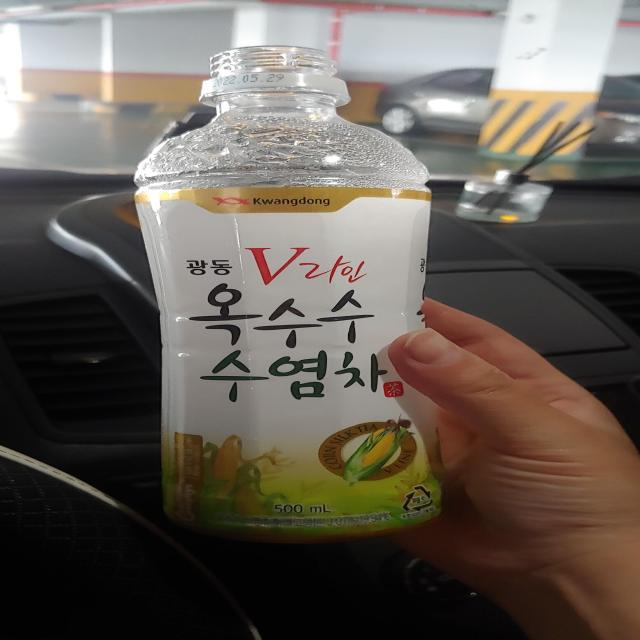litter: (128, 73, 437, 528)
